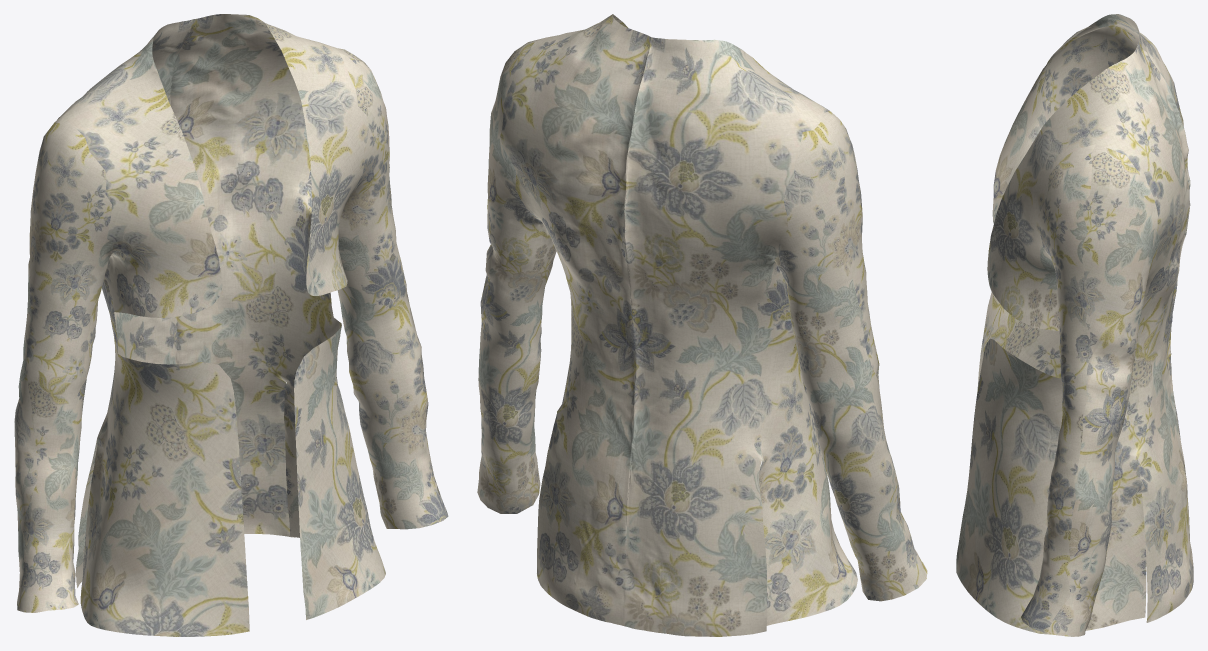
Rendered from full_lining_side_vents.glb.
3 renders of one model, left to right at view 1: azimuth 30°, elevation 25°; view 2: azimuth 150°, elevation 25°; view 3: azimuth 270°, elevation 25°, orthographic. The views are drawn at different scales.
Visible parts, largest first — view 1: lining_side_vent.001; view 2: lining_side_vent.001; view 3: lining_side_vent.001.
Part boxes in pixels (x1,y1,x2,y2): lining_side_vent.001: (14,14,448,636); lining_side_vent.001: (477,14,927,636); lining_side_vent.001: (956,14,1193,636).
Size of the model in its own units: 60.12 by 74.66 by 29.93.
1 material, 1 textured.
